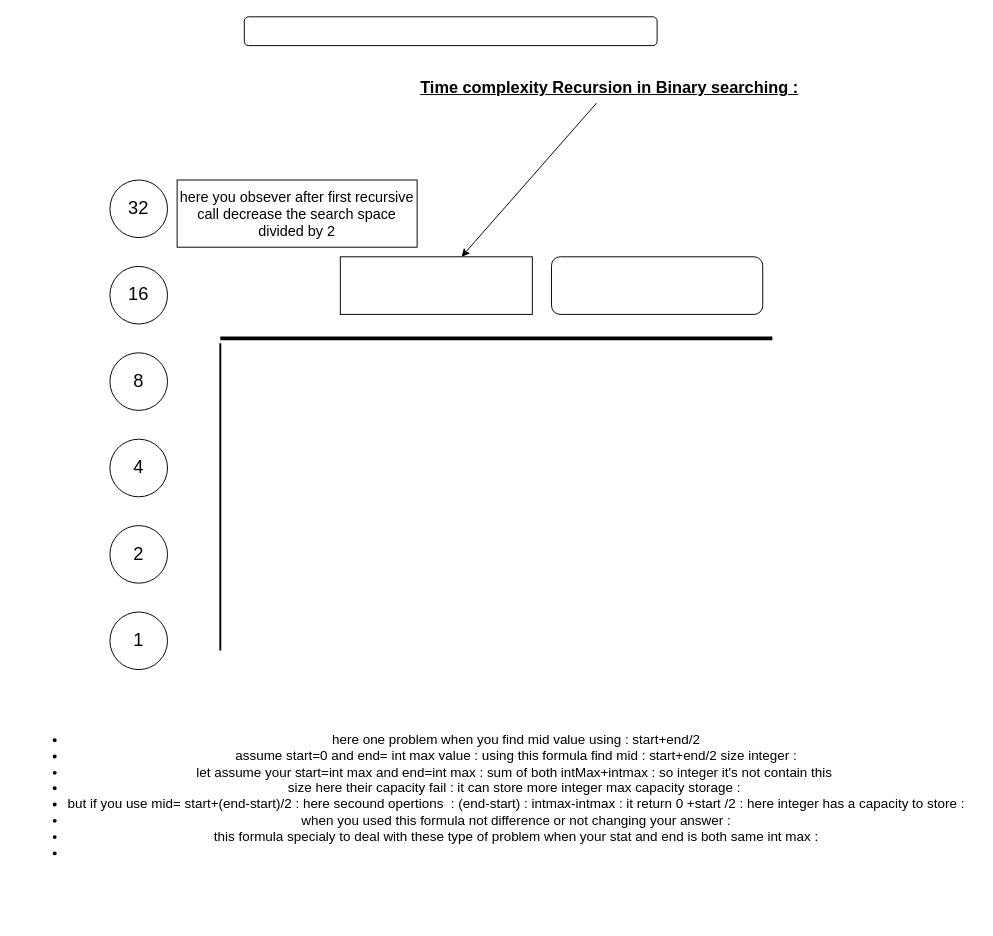
This 993x936 diagram has some shape labels left out. Here are the shapes that lost their labels. From the top down, the centre of each, then its label:
At pixel 450 31: "Time compelxity in recursion :".
At pixel 435 285: "hre we call call our time complexity is :".
At pixel 657 285: "O(log math.pow(2,n)".
